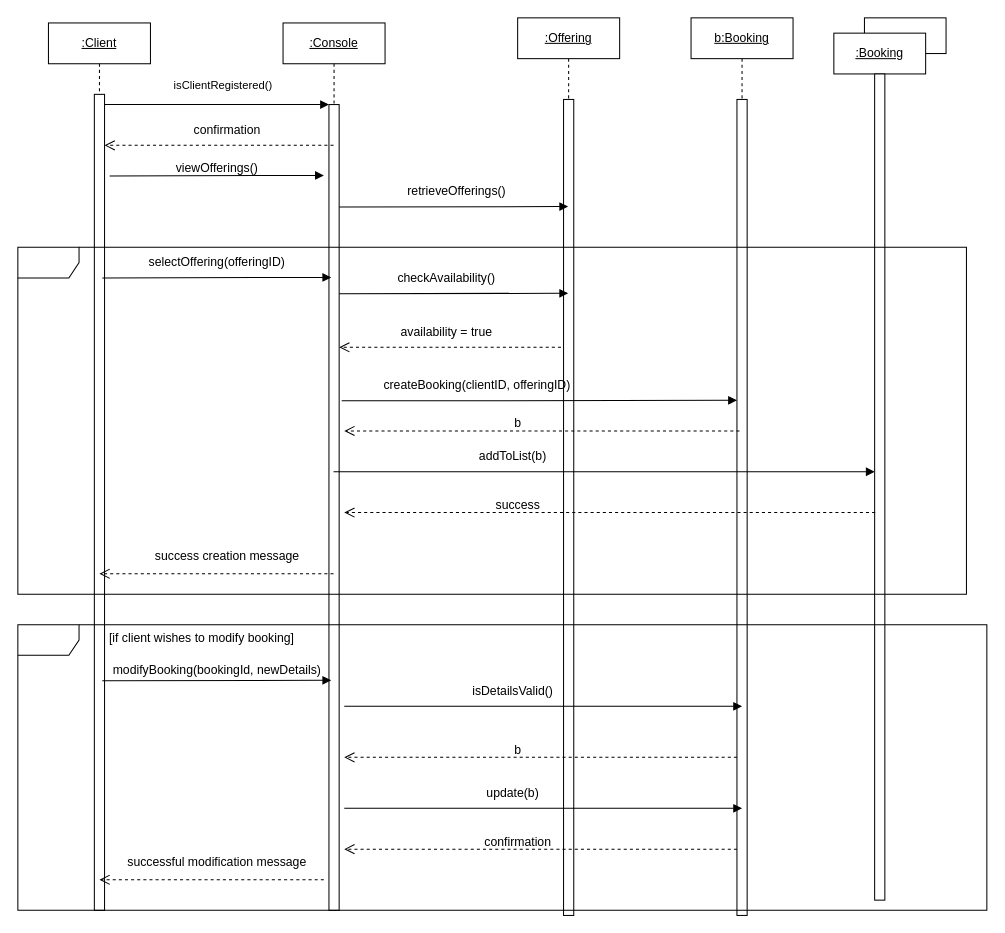
The diagram is 1005 pixels wide and 933 high, and some of its shapes have lost their labels. The shapes that lost their labels are listed below. From the top down, each one's box as (x1, y1, x2, y2) in pixels, then its label:
(17, 246, 966, 594): loop
(17, 624, 987, 910): opt
